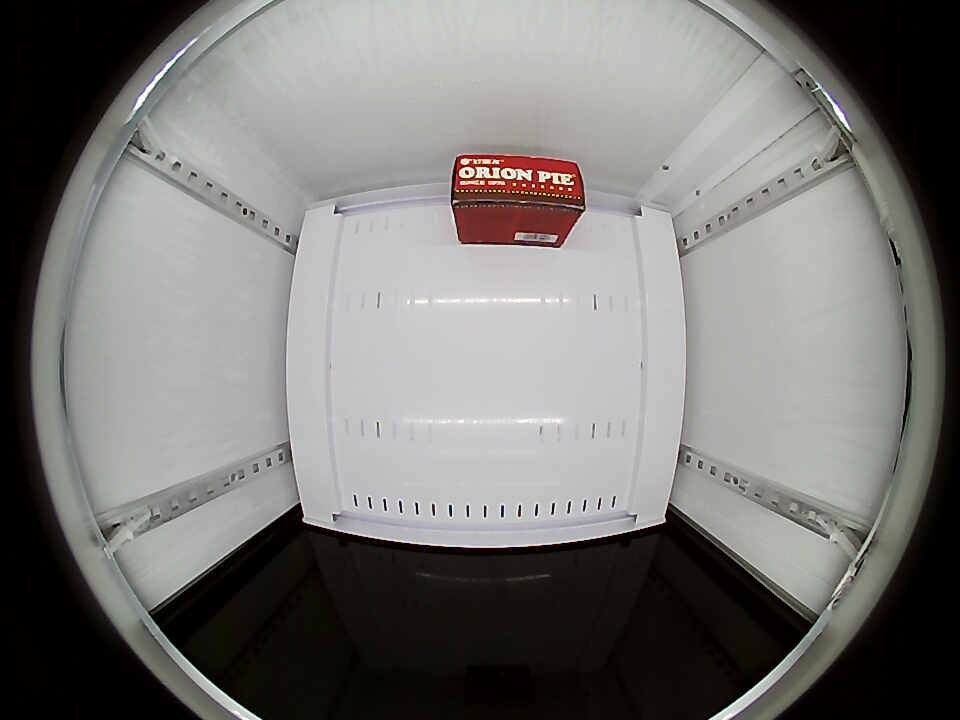haoliyou: (450, 153, 587, 246)
